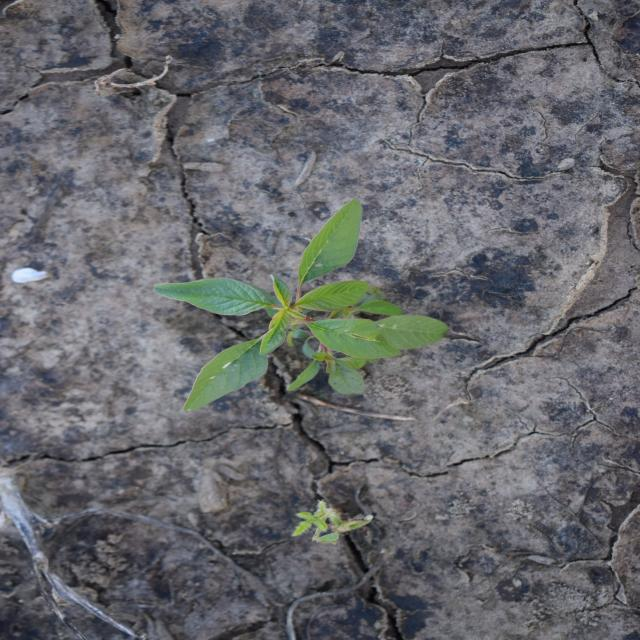Waterhemp: (151, 195, 453, 414)
